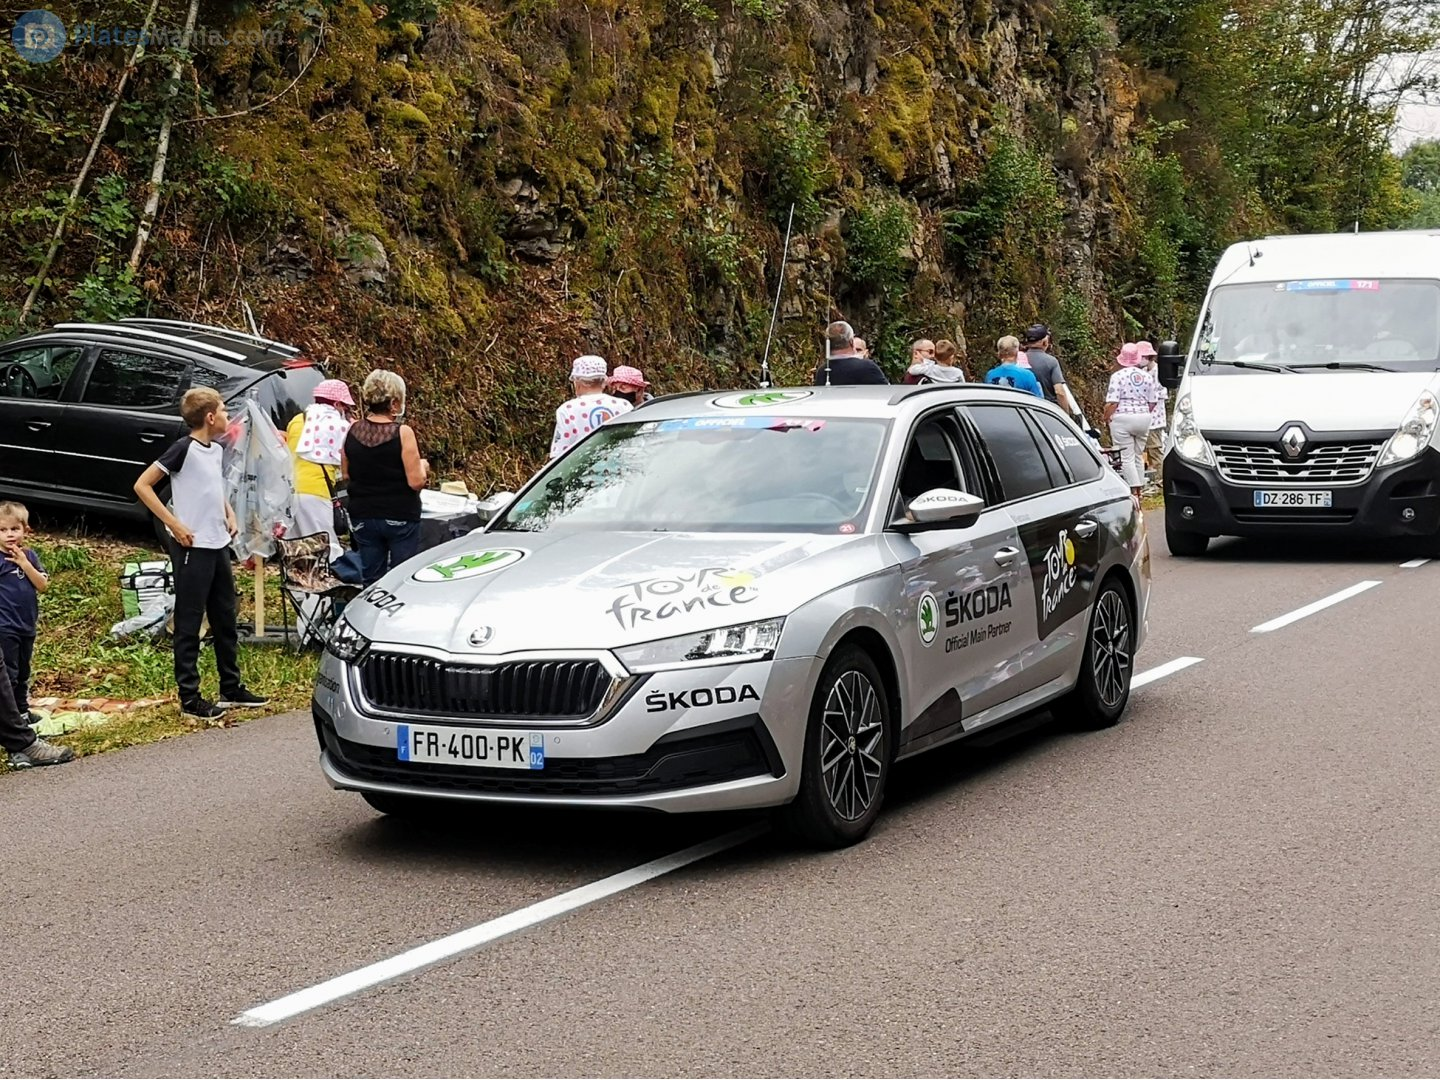licence plate: (394, 720, 548, 778)
